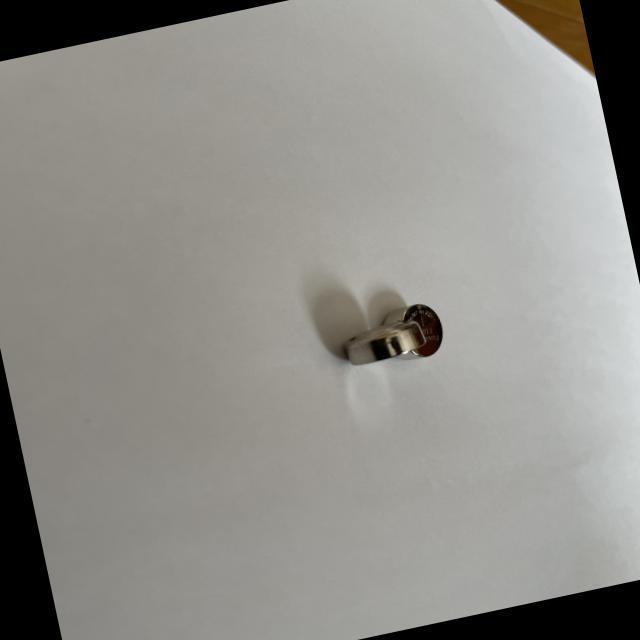COIN: (338, 318, 427, 371), (380, 298, 448, 366)
